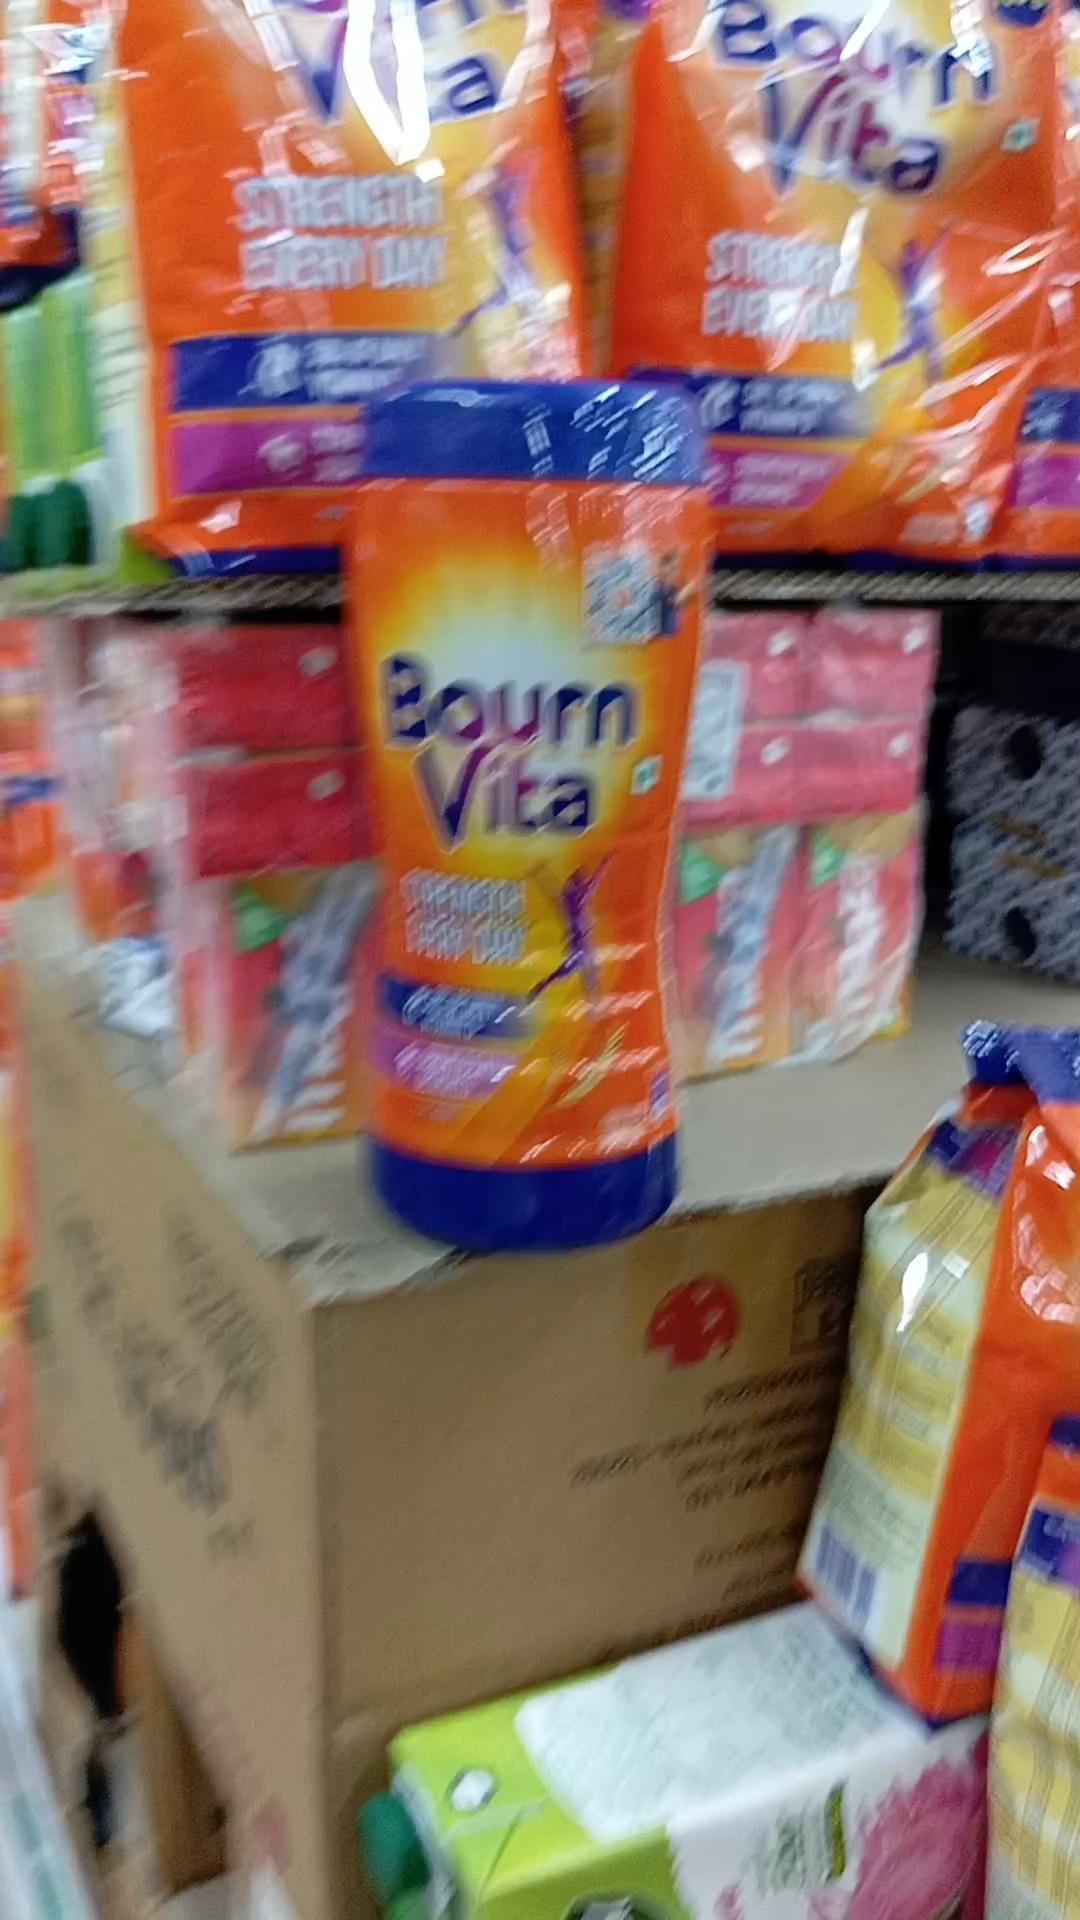BOURN_VITA_500_G_JAR: (359, 380, 686, 1253)
